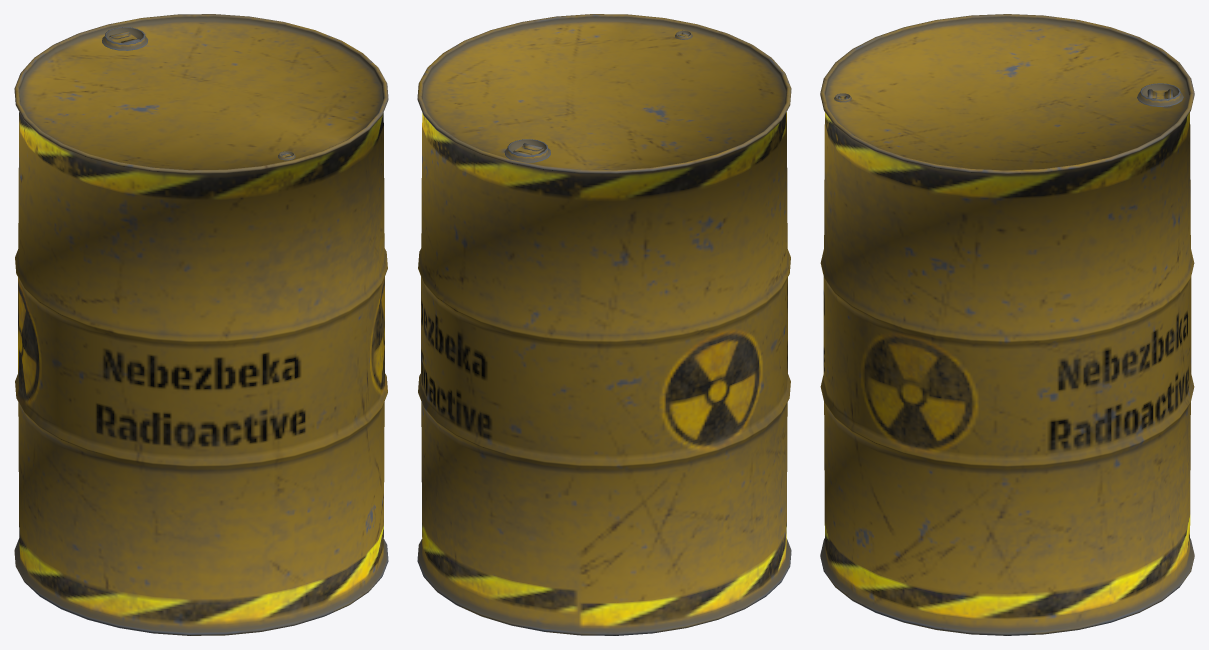
File: Barel oil Full.fbx
The picture shows the model from 3 angles, left to right: view 1: azimuth 30°, elevation 25°; view 2: azimuth 150°, elevation 25°; view 3: azimuth 270°, elevation 25°; orthographic projection.
Visible parts, largest first — view 1: Barel oil_low, Big cover_low; view 2: Barel oil_low, Big cover_low; view 3: Barel oil_low, Big cover_low.
Boxes of the visible parts, x1,y1,x2,y2 form: Barel oil_low: [14, 14, 388, 635]; Big cover_low: [102, 27, 147, 50]; Barel oil_low: [417, 14, 791, 635]; Big cover_low: [504, 139, 550, 162]; Barel oil_low: [820, 14, 1194, 635]; Big cover_low: [1137, 83, 1183, 106].
Size of the model in its own units: 10.09 by 13.84 by 10.09.
